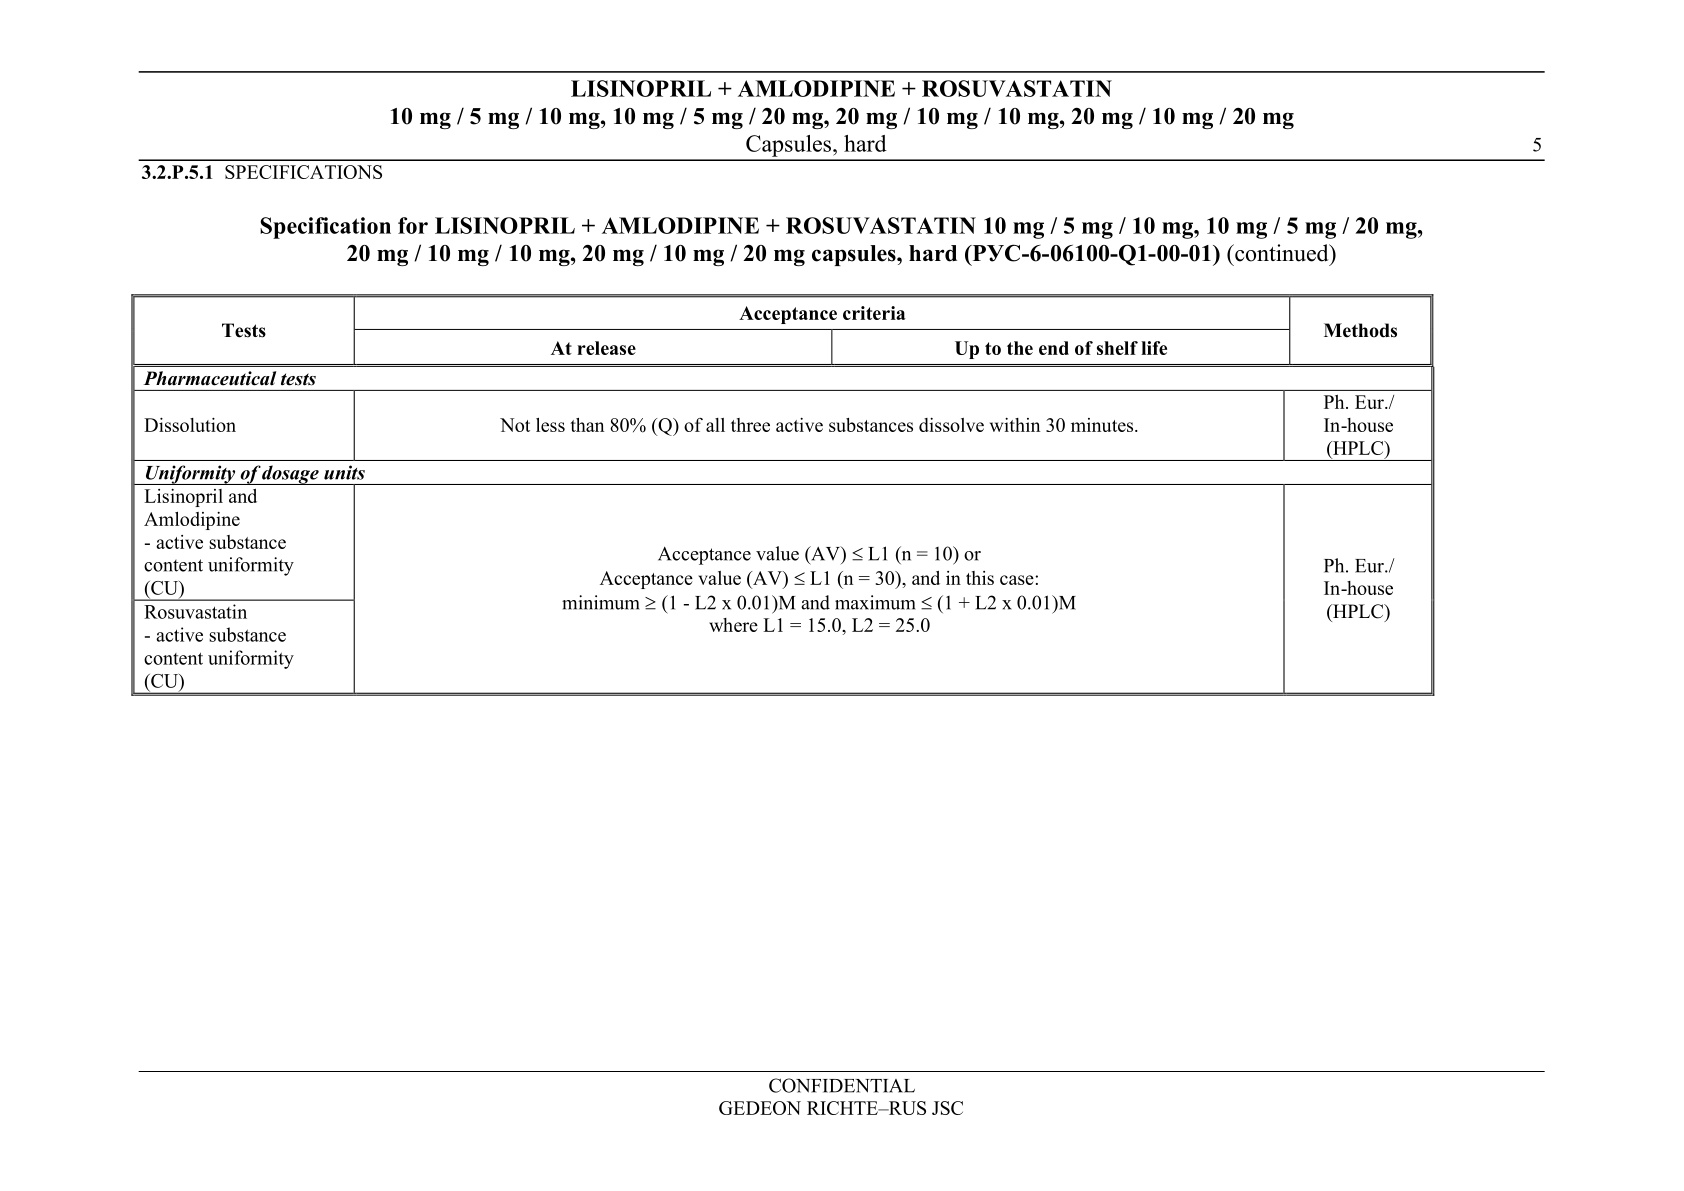merged_cells: (131, 294, 1435, 697)
